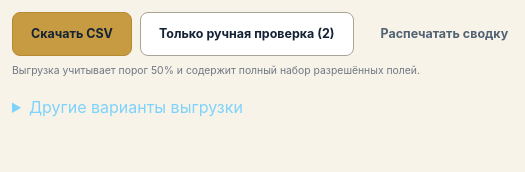
Test: ExportActions › shows a local error without removing export actions
Click the button "Скачать CSV". click: [72, 34]
box: x1=12 y1=12 x2=132 y2=56
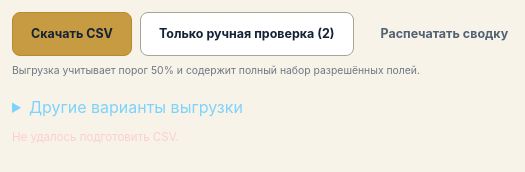
Check: the button "Только ручная проверка (2)" is enabled, box x1=140 y1=12 x2=354 y2=56
Check: the message shows "Не удалось подготовить CSV", box x1=12 y1=130 x2=179 y2=144
